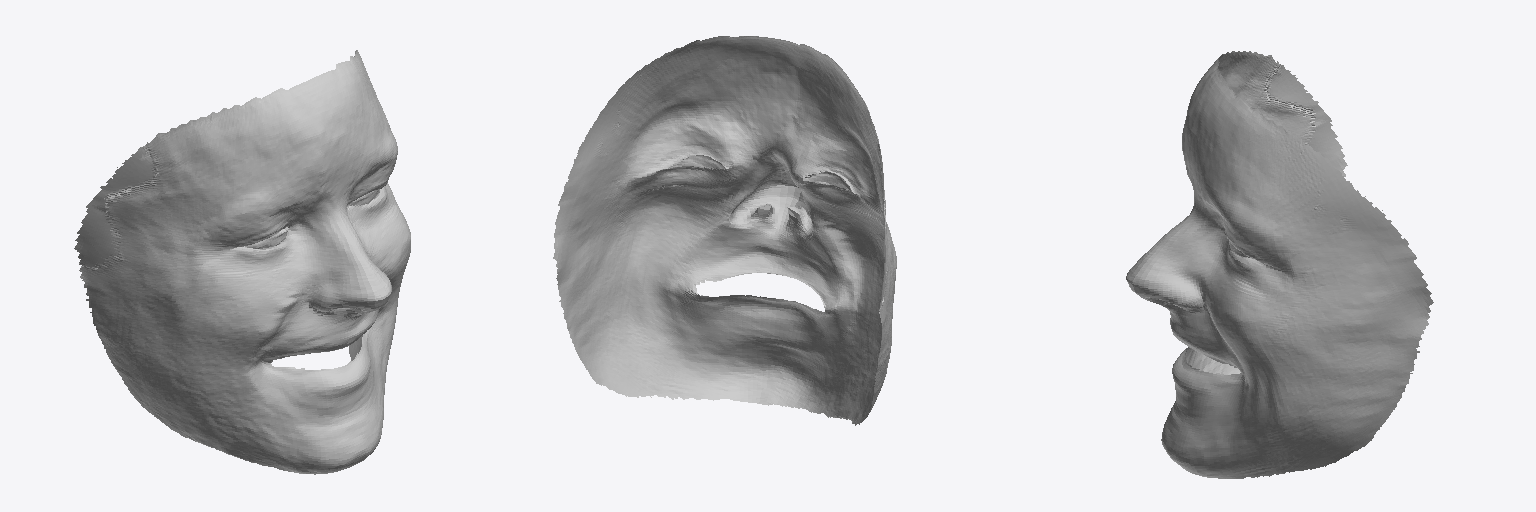
File: test_view_3_0_hrn_high_mesh.obj
3 views of the same model, side by side, from view 1: azimuth 30°, elevation 25°; view 2: azimuth 150°, elevation 25°; view 3: azimuth 270°, elevation 25° (orthographic).
Bounding box in the file's own units: 1.42 × 1.76 × 1.28.